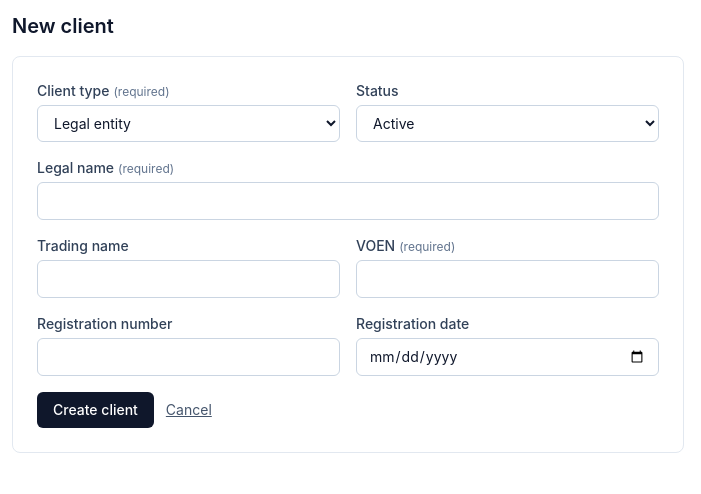
Test case: ClientCreatePage › shows backend validation errors and preserves entered values
Type "Acme Ltd" into the field labelled "Legal name(required)". click: coordinates (348, 201)
box: [37,182,659,220]
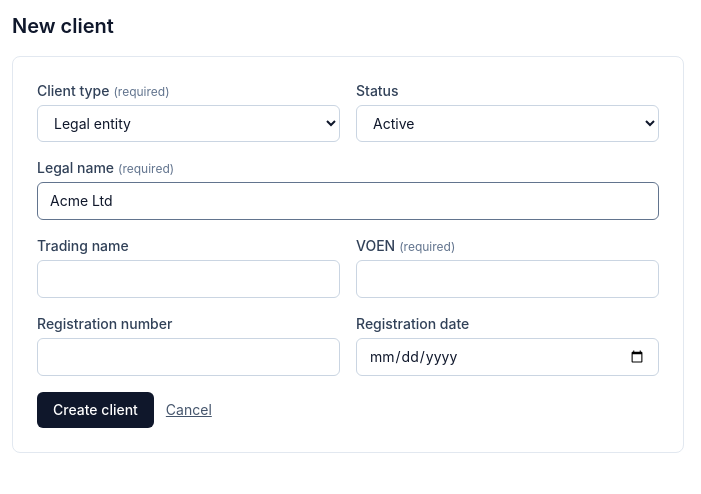
Type "999" into the field labelled "VOEN(required)". click: coordinates (508, 279)
box: [356,260,659,298]
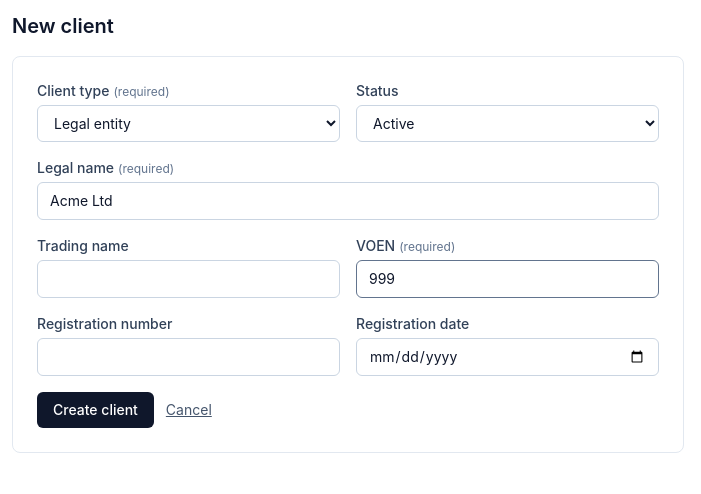
Click the button "Create client". click: coordinates (95, 410)
box: [37,392,154,428]
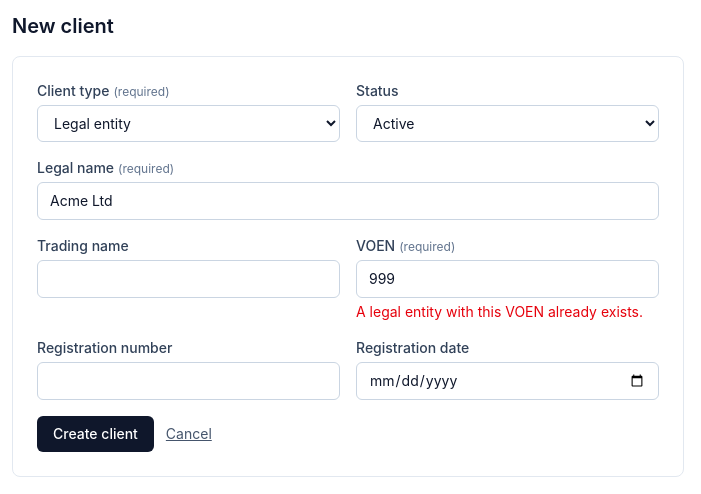
Check: the text "A legal entity with this VOEN already exists." is shown, box [356,302,659,322]
